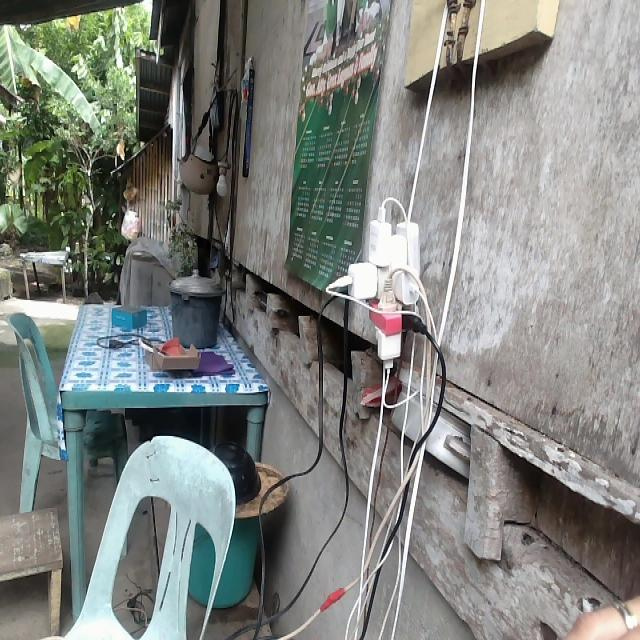-: (348, 207, 421, 372)
